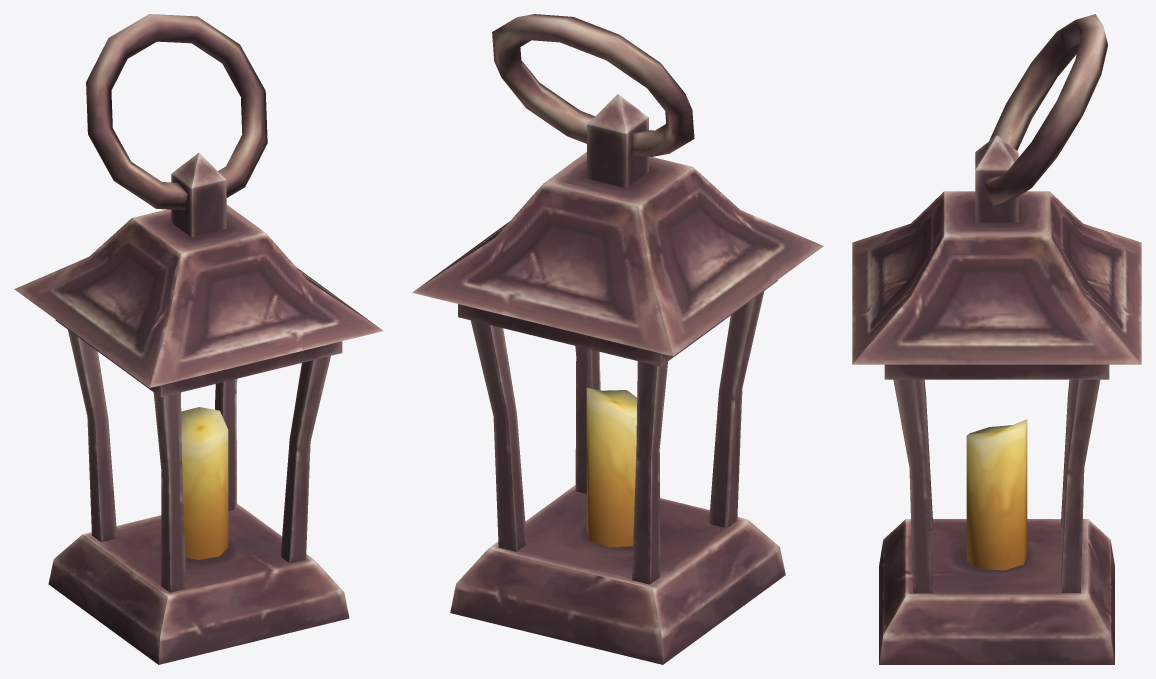
Rendered from Lantern_01.FBX.
The picture shows the model from 3 angles, left to right: view 1: azimuth 30°, elevation 25°; view 2: azimuth 150°, elevation 25°; view 3: azimuth 270°, elevation 25°; orthographic projection. The views are drawn at different scales.
Visible parts, largest first — view 1: Lantern_01; view 2: Lantern_01; view 3: Lantern_01.
Boxes of the visible parts, bbox=[...] form: Lantern_01: bbox=[14, 14, 382, 664]; Lantern_01: bbox=[412, 14, 823, 664]; Lantern_01: bbox=[852, 14, 1141, 664].
Bounding box in the file's own units: 25.6 × 25.6 × 57.52.
